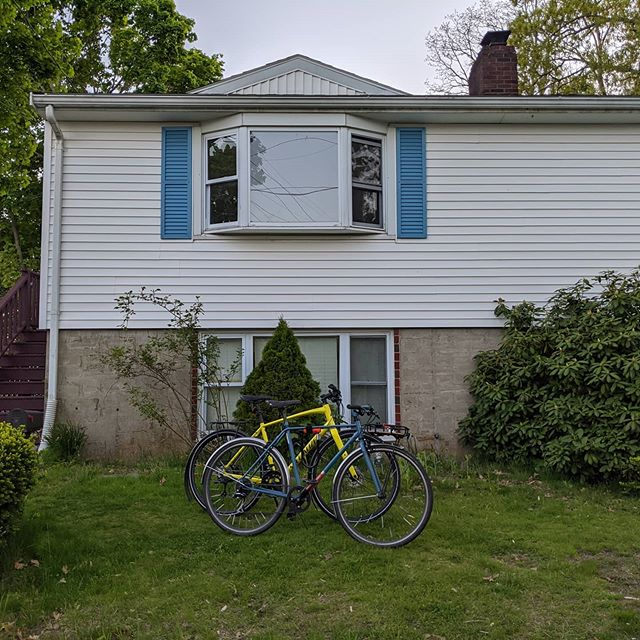bicicle: (200, 421, 428, 541), (177, 397, 405, 517)
building: (42, 60, 640, 466)
grass: (1, 478, 640, 640)
vegetation: (453, 274, 640, 488)
